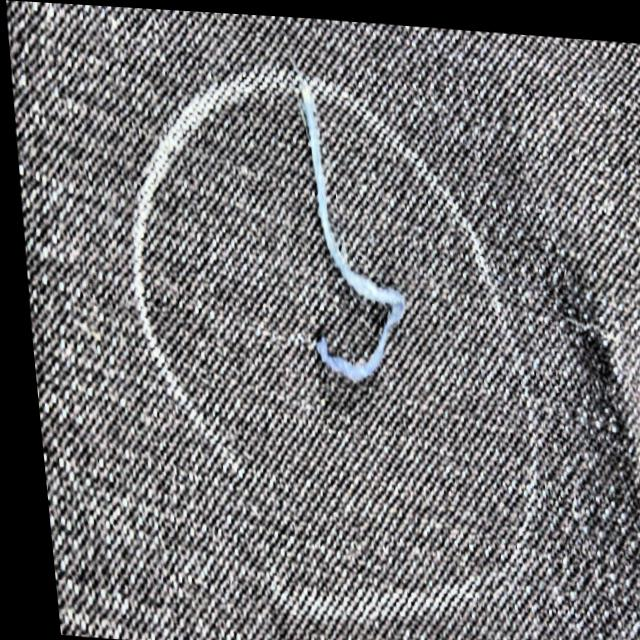Hole: (251, 57, 433, 433)
